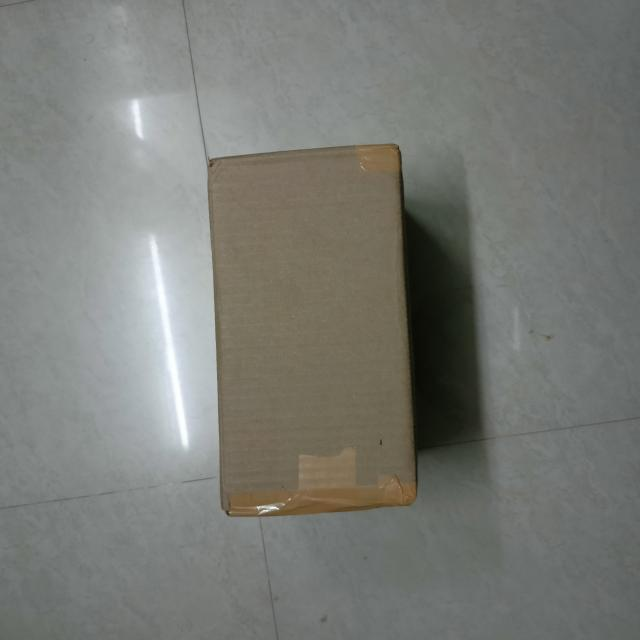box: (211, 143, 416, 516)
